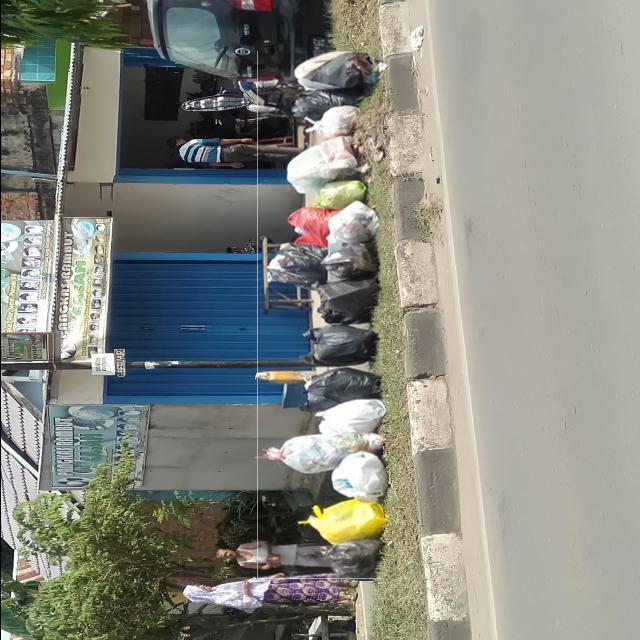Trashbag: (262, 241, 375, 283), (292, 323, 381, 369), (292, 365, 378, 405), (314, 286, 384, 322), (320, 550, 391, 582), (292, 85, 361, 113)
